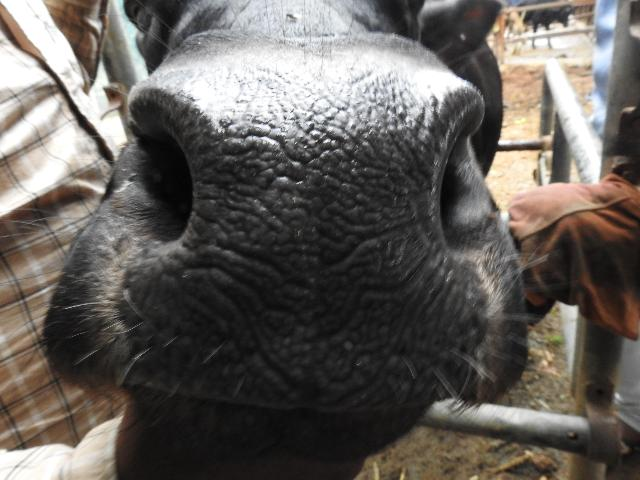Muzzle: (154, 68, 466, 400)
